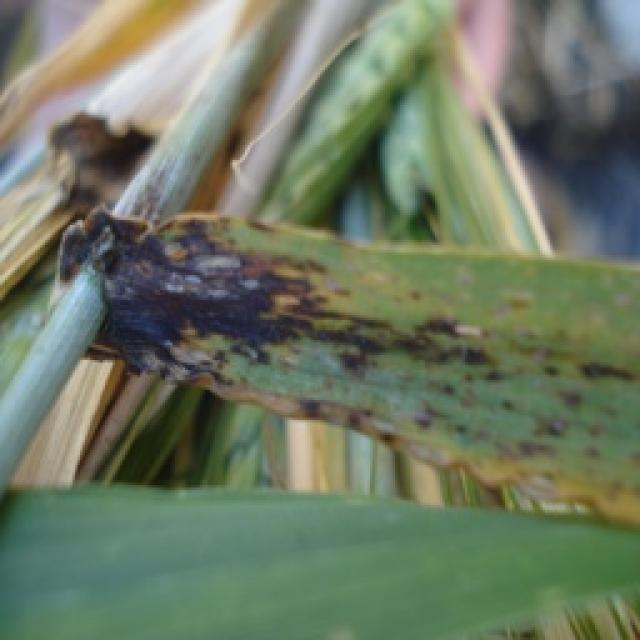Black Rust: (55, 200, 637, 542)
Healthy Wheat: (0, 0, 638, 638)
